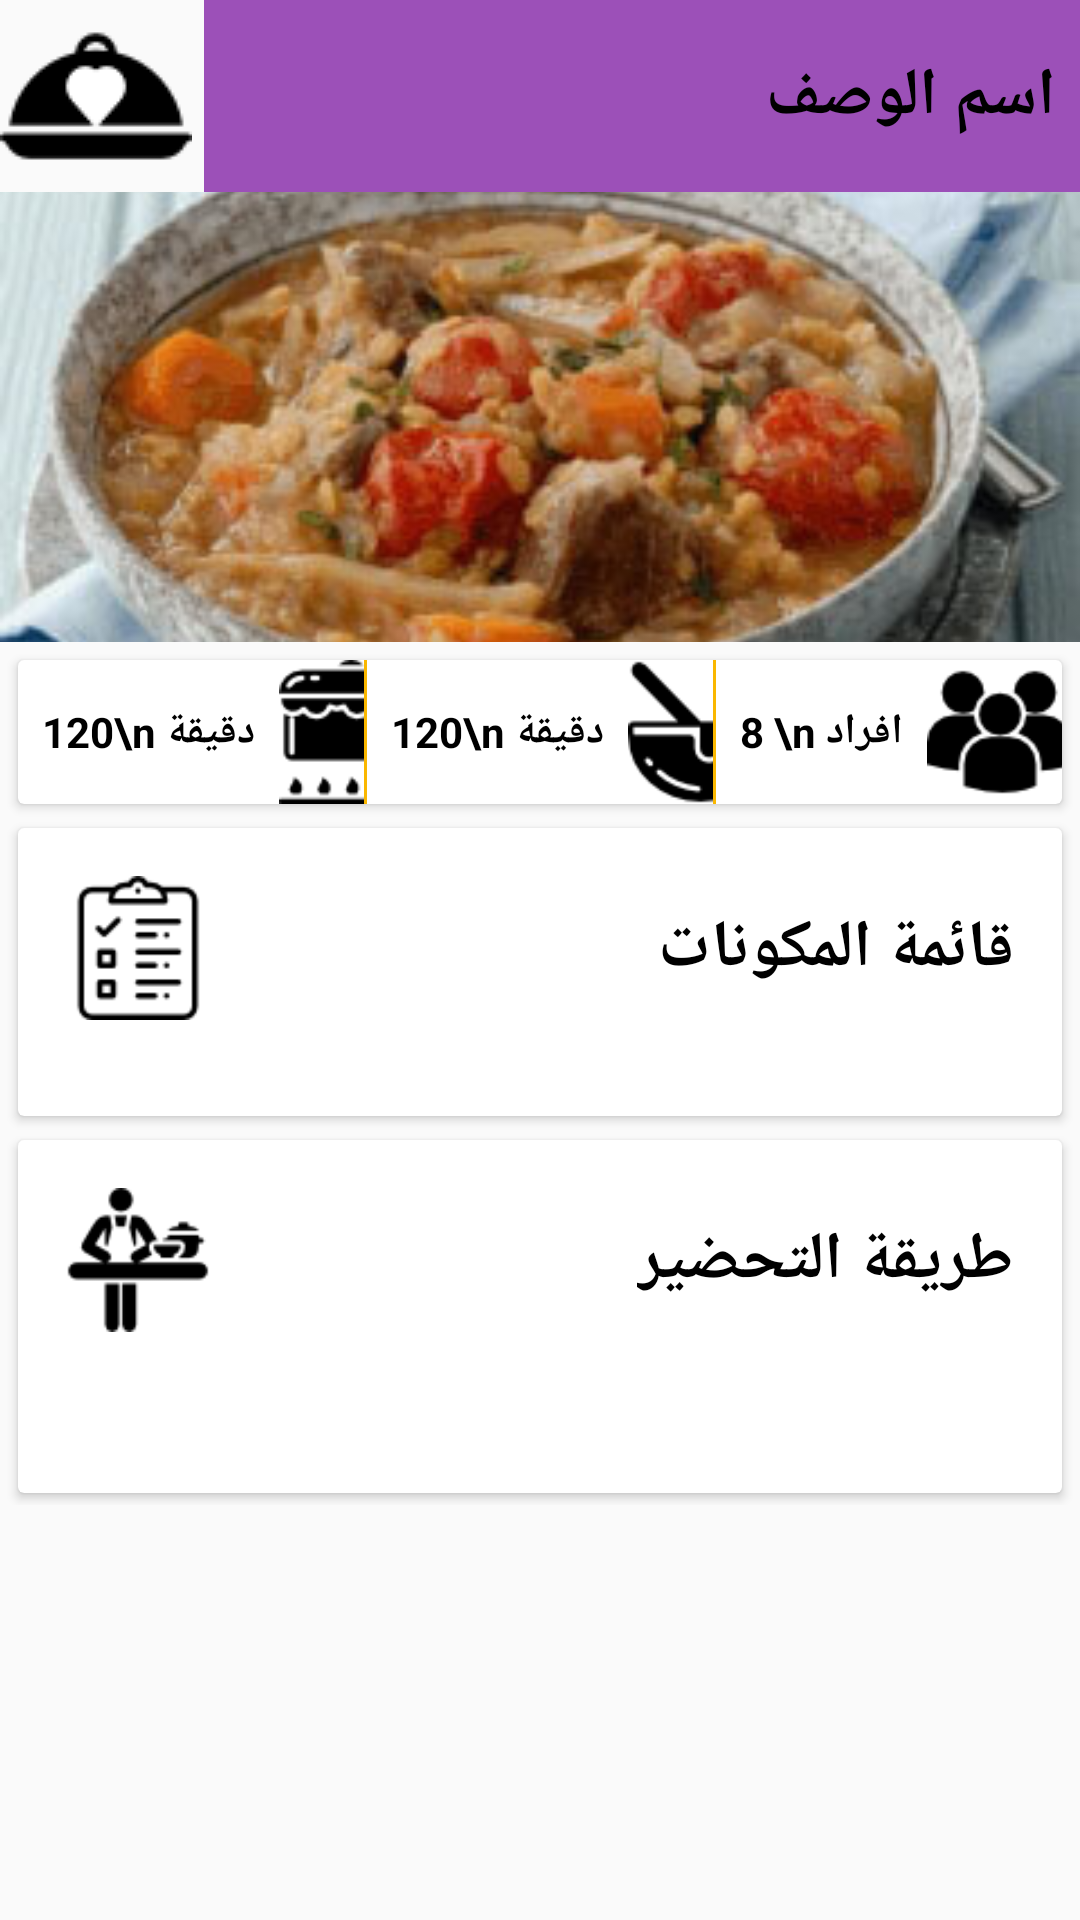

Named icons in this screenshot (1080 × 1920) and their bounding boxes, (x1, y1, x2, y2):
checklist: (77, 876, 199, 1020)
iconpeople: (927, 670, 1038, 794)
